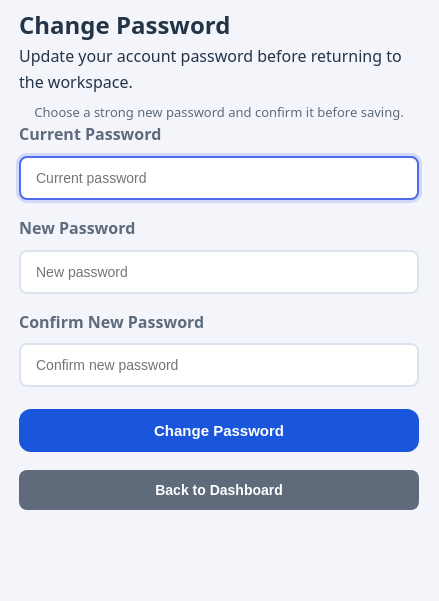
Test case: ChangePasswordPage › sets the page title and validates password confirmation before submitting
The width and height of the screenshot is (439, 601).
Step 1. Type "old-pass" into the password field labelled "Current Password" → (219, 178), box [19,156,419,200]
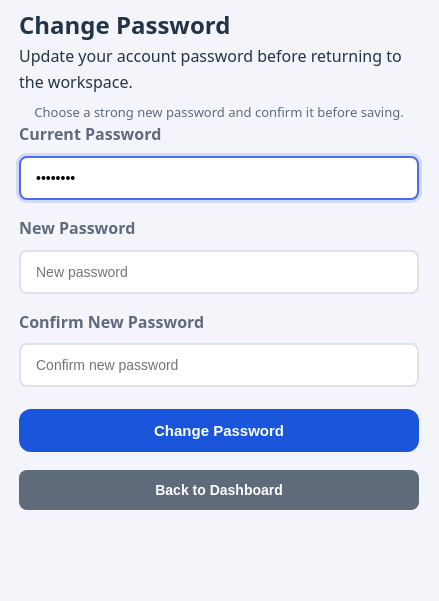
Step 2. Type "new-pass-123" into the password field labelled "New Password" → (219, 272), box [19,250,419,294]
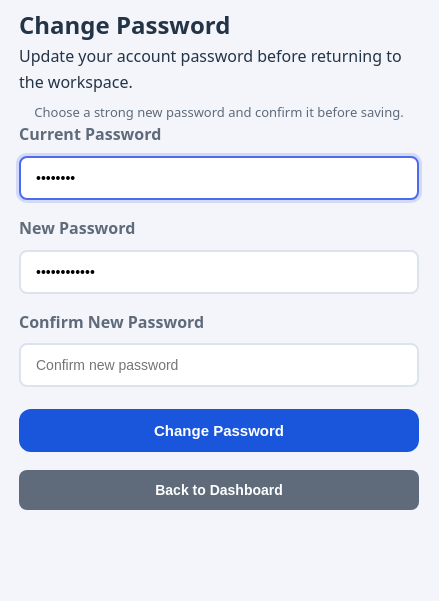
Step 3. Type "mismatch" into the password field labelled "Confirm New Password" → (219, 365), box [19,343,419,387]
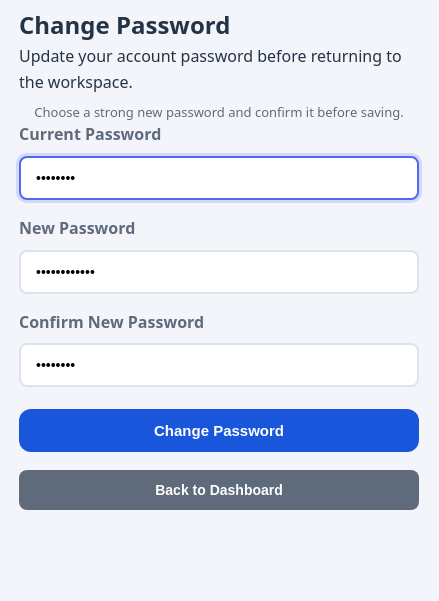
Step 4. Click the button "Change Password" → (219, 431), box [19,409,419,452]
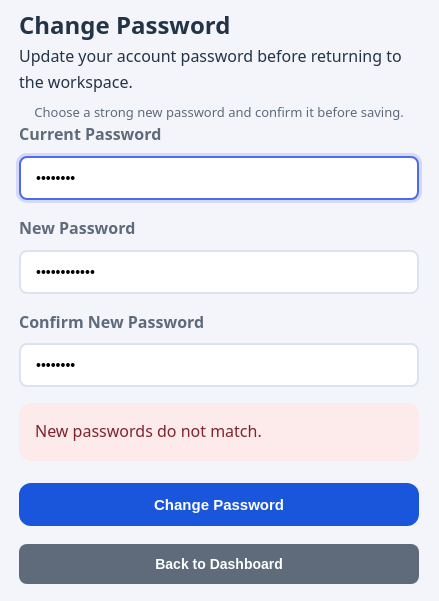
Expected: the text "New passwords do not match." is shown, [19,403,419,461]
